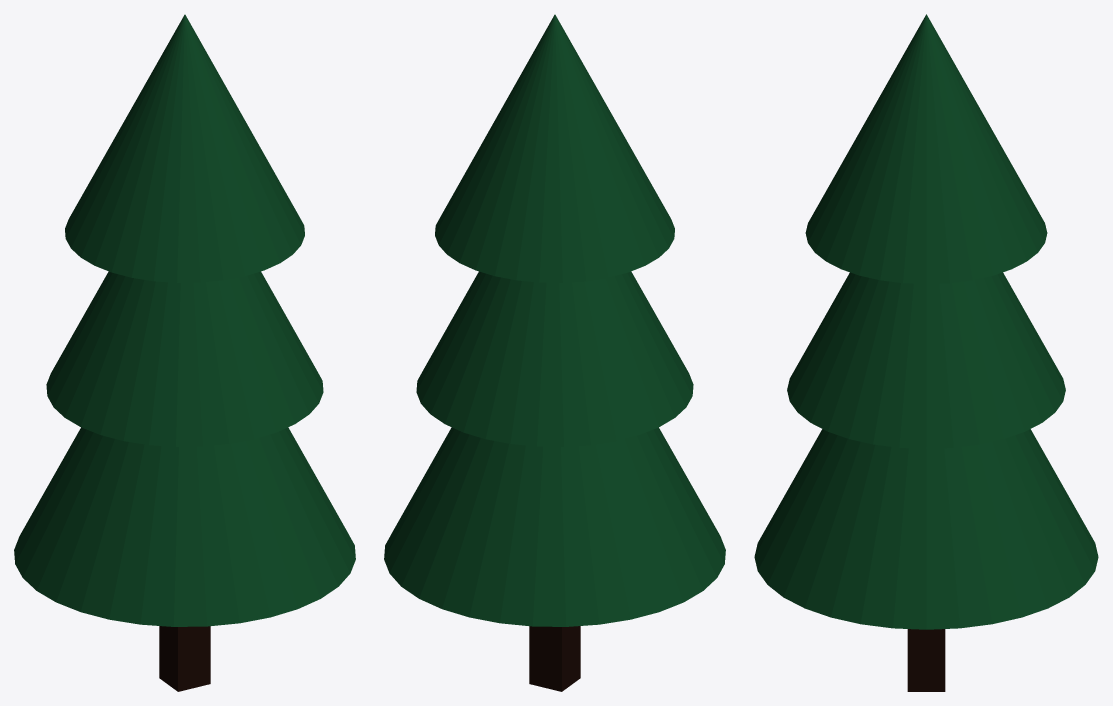
Rendered from tree.fbx.
The picture shows the model from 3 angles, left to right: view 1: azimuth 30°, elevation 25°; view 2: azimuth 150°, elevation 25°; view 3: azimuth 270°, elevation 25°; orthographic projection.
Parts seen in each view (by area): view 1: Cone.002, Cone.001, Cone, Cube; view 2: Cone.002, Cone.001, Cone, Cube; view 3: Cone.002, Cone.001, Cone, Cube.
Boxes of the visible parts, x1,y1,x2,y2 form: Cone.002: (14,427,355,626); Cone.001: (46,271,323,446); Cone: (65,14,304,282); Cube: (159,626,210,691); Cone.002: (384,427,725,626); Cone.001: (416,271,693,446); Cone: (435,14,674,282); Cube: (529,626,580,691); Cone.002: (754,429,1098,629); Cone.001: (787,272,1065,448); Cone: (805,14,1047,284); Cube: (907,629,945,691).
Size of the model in its own units: 768 by 1650 by 768.
